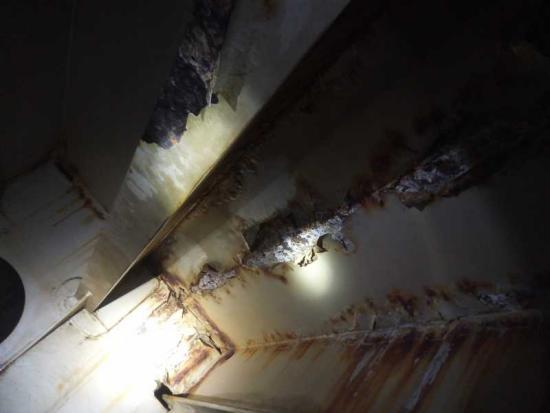corrosion: (323, 322, 479, 411), (344, 131, 497, 206), (237, 201, 355, 283), (148, 268, 196, 315), (228, 342, 313, 365), (194, 250, 237, 294), (447, 264, 489, 303), (168, 351, 212, 386), (390, 284, 425, 314), (353, 287, 383, 313), (427, 277, 443, 303), (145, 331, 149, 332)
